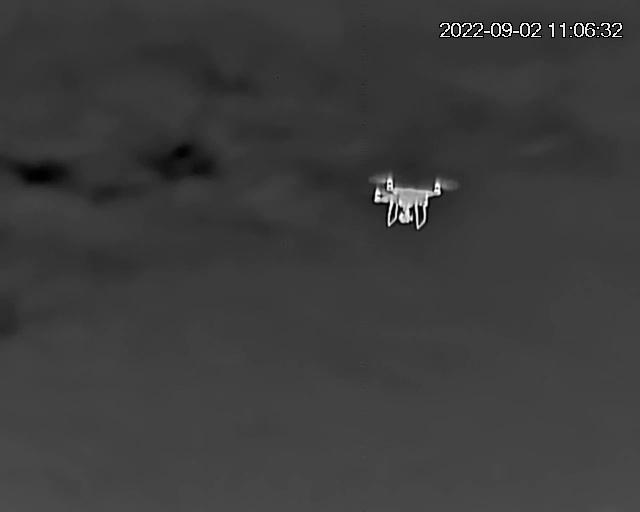DJI-Phantom: (367, 165, 458, 230)
